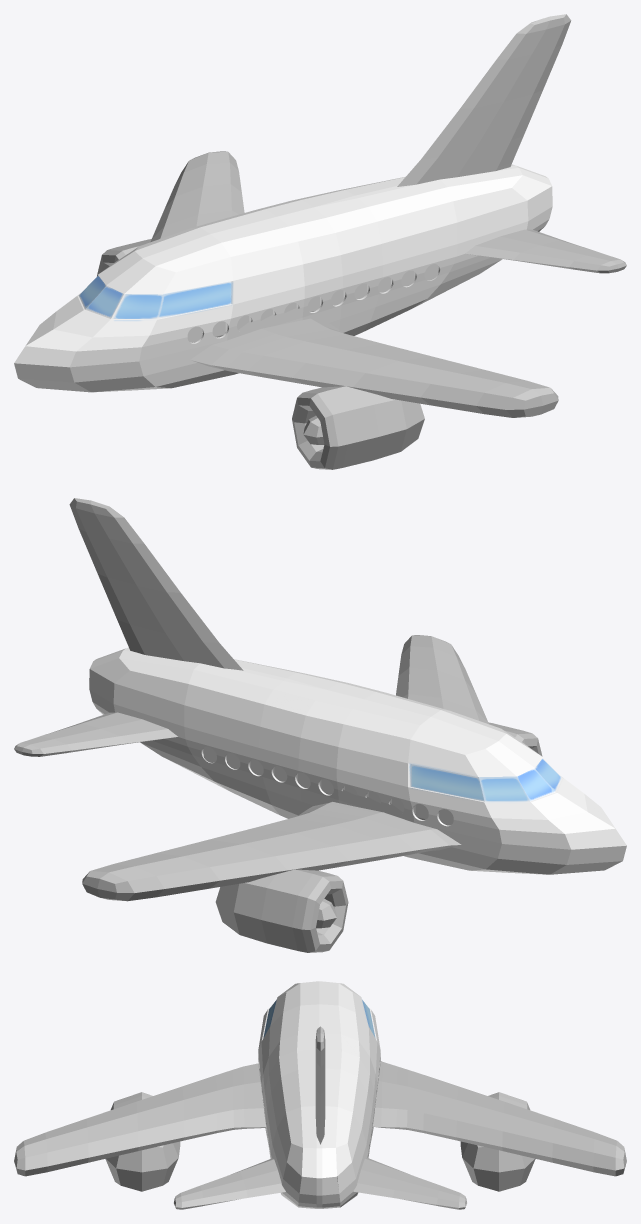
Rendered from PlaneSmall.fbx.
3 views of the same model, one above another, from view 1: azimuth 30°, elevation 25°; view 2: azimuth 150°, elevation 25°; view 3: azimuth 270°, elevation 25° (orthographic). The views are drawn at different scales.
Parts seen in each view (by area): view 1: PlaneBody_Cube.006, Cube.001, Cube.002, Cube.004_Cube.010; view 2: PlaneBody_Cube.006, Cube.001, Cube.002, Cube.004_Cube.010; view 3: Cube.001, PlaneBody_Cube.006, Cube.002.
Boxes of the visible parts, <box> form: PlaneBody_Cube.006: <box>14,164,552,392</box>; Cube.001: <box>150,14,626,417</box>; Cube.002: <box>97,239,424,469</box>; Cube.004_Cube.010: <box>187,264,438,342</box>; PlaneBody_Cube.006: <box>89,647,626,874</box>; Cube.001: <box>14,498,488,901</box>; Cube.002: <box>215,722,542,952</box>; Cube.004_Cube.010: <box>203,746,453,825</box>; Cube.001: <box>14,1026,626,1209</box>; PlaneBody_Cube.006: <box>258,981,380,1208</box>; Cube.002: <box>105,1092,535,1191</box>.
Size of the model in its own units: 4728 by 2439 by 4912.
